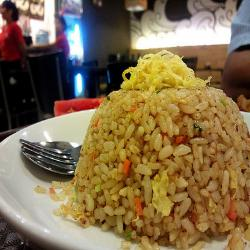rice: (75, 84, 248, 244)
